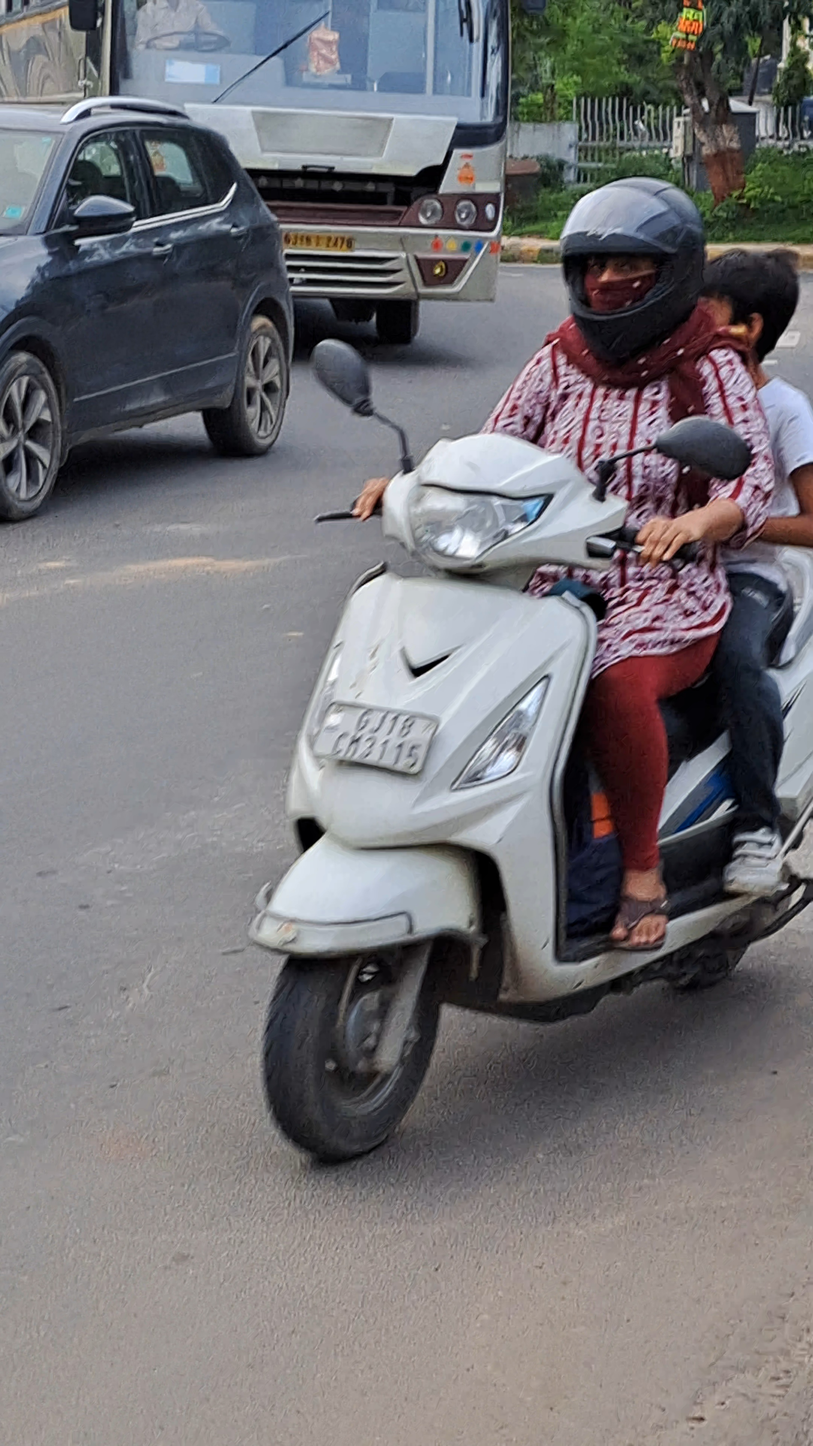BikeWithRider: (233, 135, 813, 1195), (700, 235, 810, 380)
Helmet: (531, 169, 706, 373)
